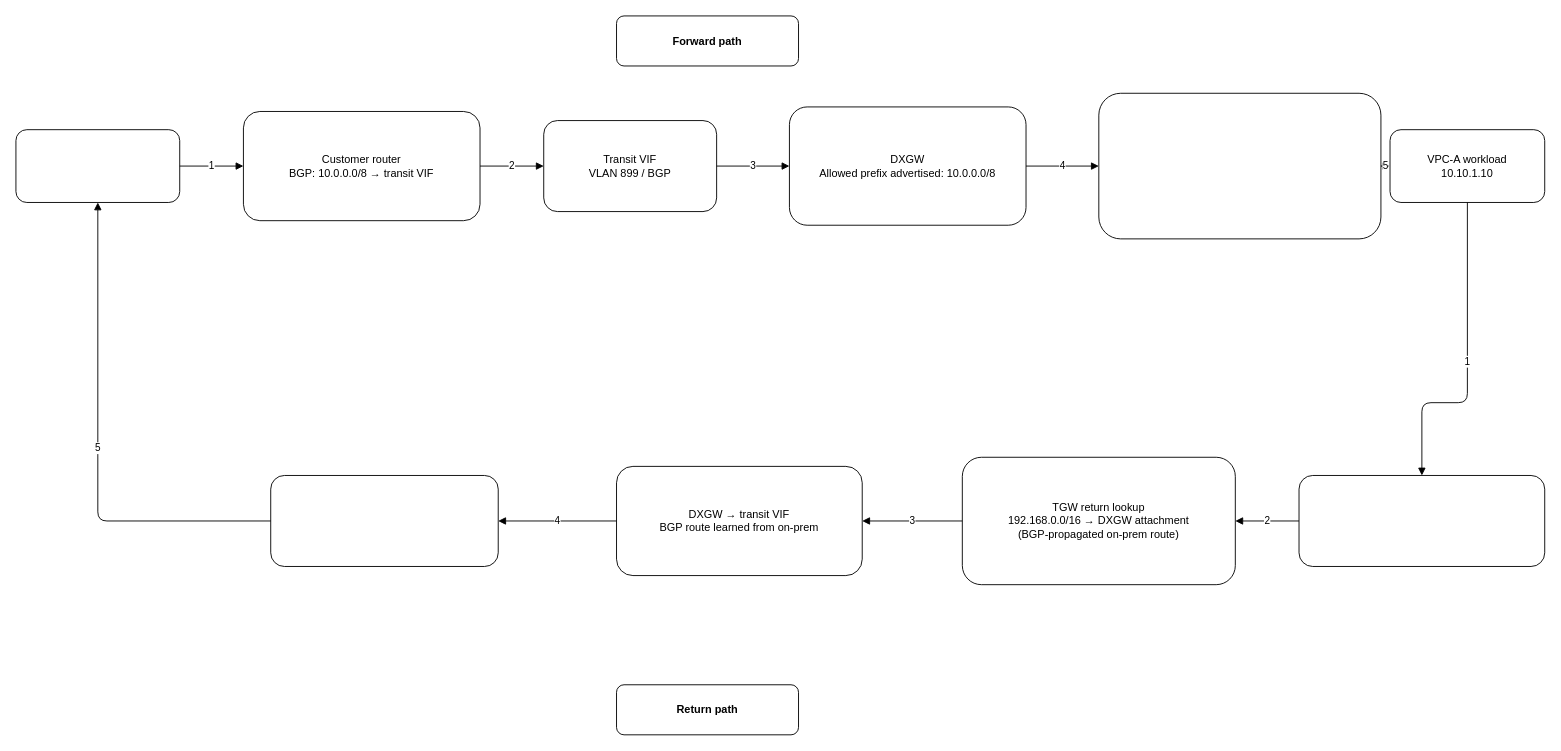
The diagram is 1561 pixels wide and 751 high, and some of its shapes have lost their labels. The centre of each missing label's shape, as x and y in pixels:
"Customer router forwards to 192.168.10.25" goes at [384,520].
"On-prem host 192.168.10.25" goes at [97,165].
"Return VPC route table 192.168.0.0/16 → TGW" goes at [1421,520].
"TGW ingress from DXGW attachment TGW RT lookup: 10.10.0.0/16 → VPC-A attachment" goes at [1239,165].
